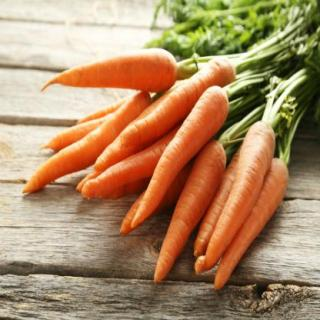Wortel: (131, 88, 230, 231), (207, 123, 277, 269), (54, 46, 180, 92)
